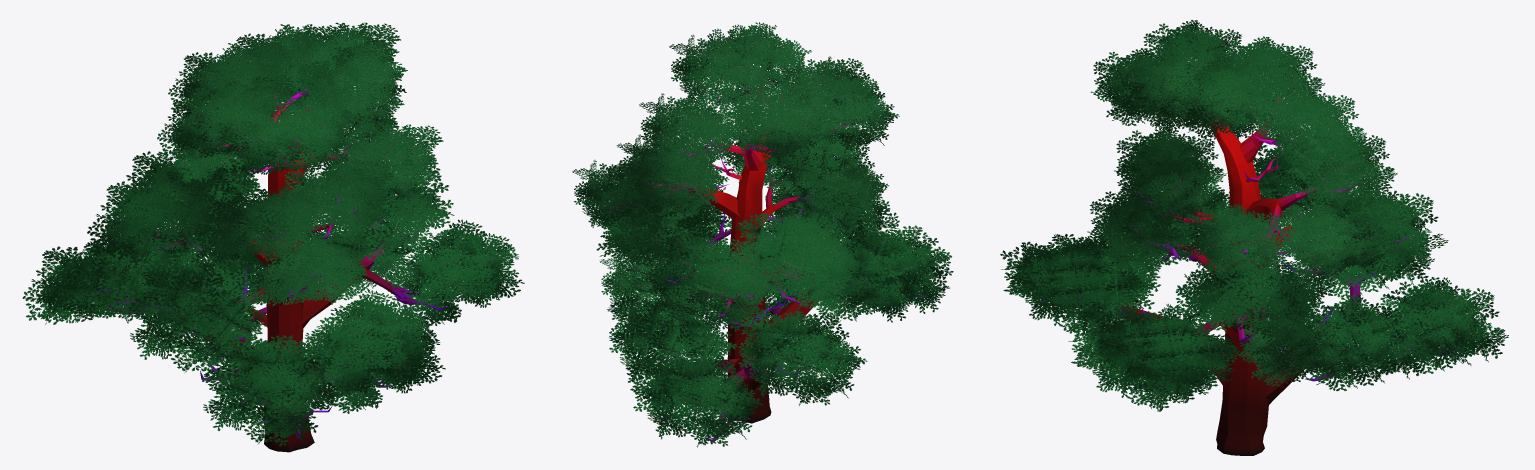
The model's file is PT_Oak_Tree_01_green_cut.fbx.
3 renders of one model, left to right at view 1: azimuth 30°, elevation 25°; view 2: azimuth 150°, elevation 25°; view 3: azimuth 270°, elevation 25°, orthographic. The views are drawn at different scales.
Parts seen in each view (by area): view 1: PT_Oak_Tree_01_green_cut; view 2: PT_Oak_Tree_01_green_cut; view 3: PT_Oak_Tree_01_green_cut.
Part boxes in pixels (<box>): PT_Oak_Tree_01_green_cut: <box>22,22,524,452</box>; PT_Oak_Tree_01_green_cut: <box>572,22,953,447</box>; PT_Oak_Tree_01_green_cut: <box>1000,20,1508,455</box>.
Size of the model in its own units: 1663 by 1654 by 1940.
